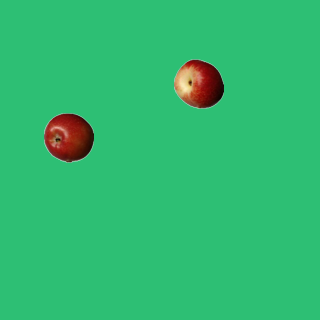Apple Braeburn: (43, 112, 93, 162)
Nectarine: (173, 58, 223, 108)
